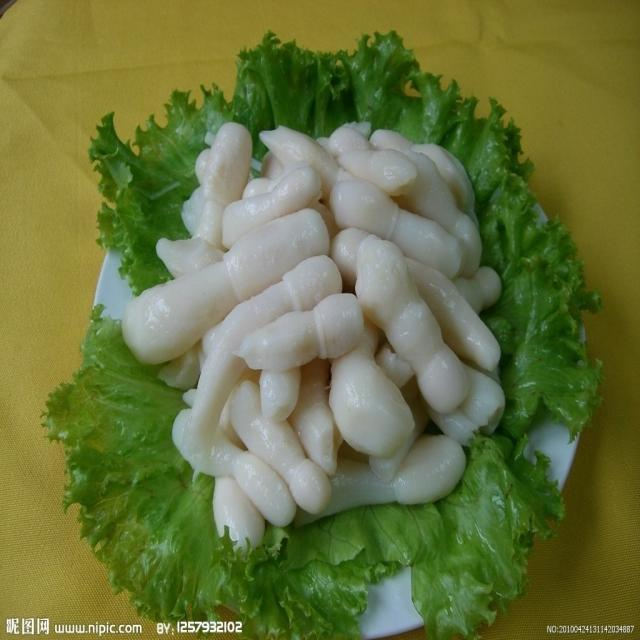Coprinus comatus: (354, 237, 469, 413), (160, 118, 248, 281), (335, 174, 470, 278), (230, 379, 331, 509), (320, 435, 467, 503), (239, 291, 364, 368), (230, 255, 342, 335), (222, 164, 324, 245)
